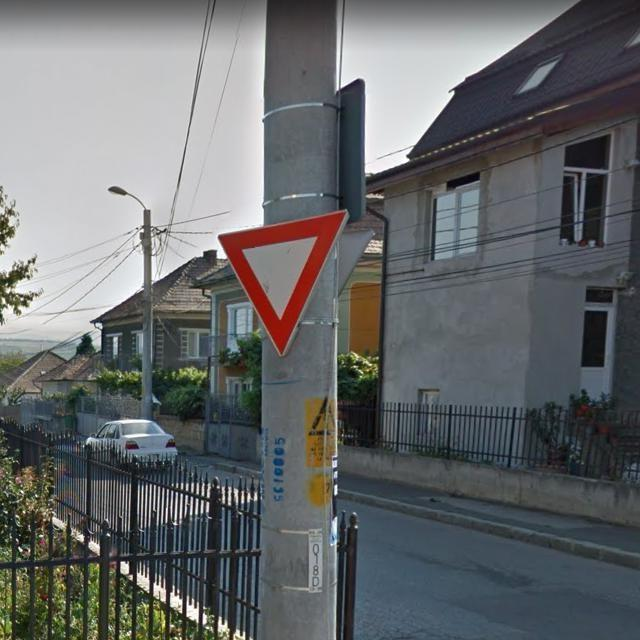prio_give_way: (214, 208, 350, 358)
